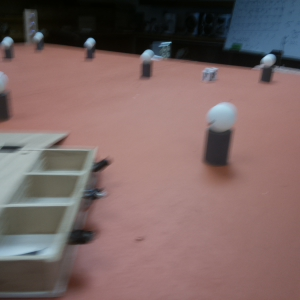corner: (24, 10, 38, 45)
obstacle: (203, 99, 235, 167), (258, 51, 276, 86), (138, 49, 155, 80), (1, 71, 10, 122), (83, 37, 98, 63), (34, 31, 48, 52), (4, 36, 14, 59)
side: (61, 147, 111, 294)
